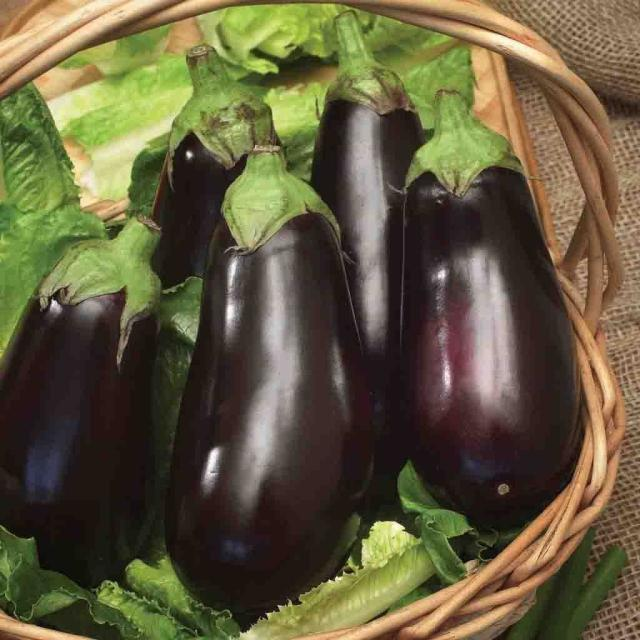Eggplant-r1Ob: (172, 106, 364, 618), (405, 90, 582, 529), (0, 218, 160, 584), (314, 10, 424, 359), (154, 45, 276, 287)
